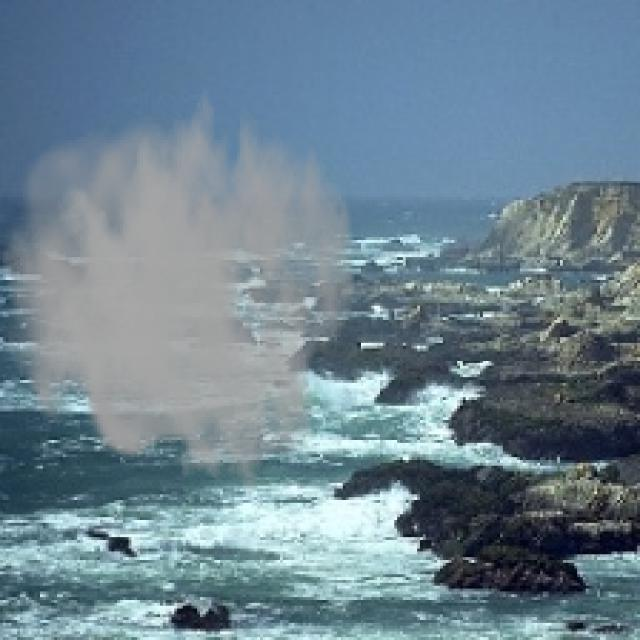smoke: (3, 69, 357, 494)
